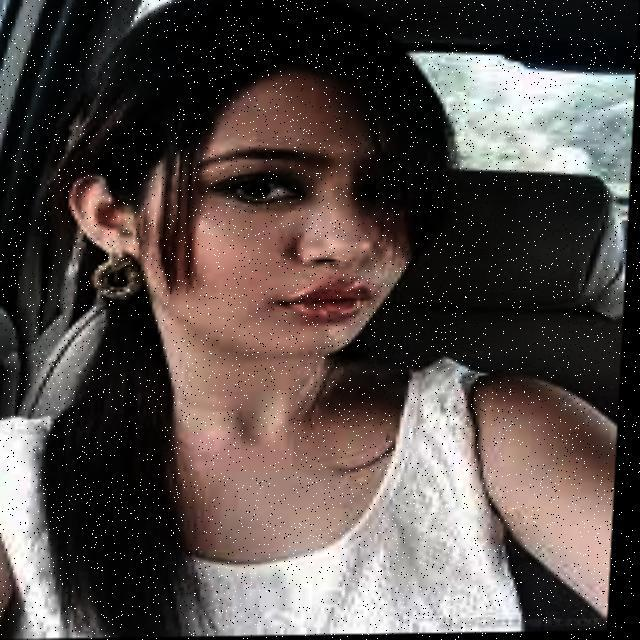noSeatbelt: (0, 316, 574, 640)
